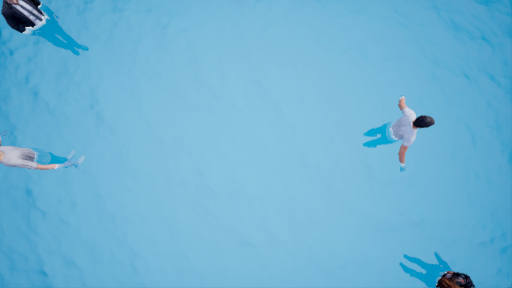person: (362, 89, 433, 174), (1, 1, 95, 63), (395, 252, 481, 288), (1, 144, 88, 173)
